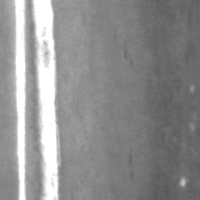inclusion: (124, 151, 137, 179)
scratches: (30, 2, 63, 200), (11, 3, 31, 200)
